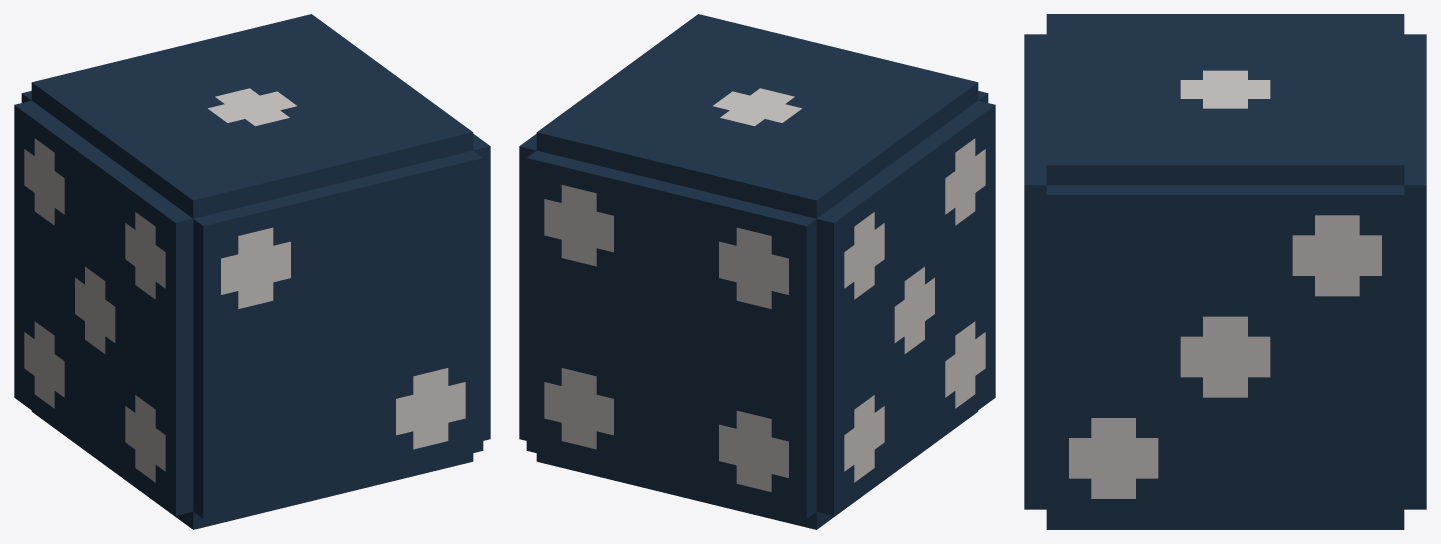
Rendered from dice-v3-blue-white.gltf.
3 views of the same model, side by side, from view 1: azimuth 30°, elevation 25°; view 2: azimuth 150°, elevation 25°; view 3: azimuth 270°, elevation 25° (orthographic). The views are drawn at different scales.
Parts seen in each view (by area): view 1: Untitled; view 2: Untitled; view 3: Untitled.
Part boxes in pixels (x1,y1,x2,y2): Untitled: (14,14,490,529); Untitled: (519,14,995,529); Untitled: (1024,14,1426,529).
Size of the model in its own units: 1.8 by 1.8 by 1.8.
1 material, 1 textured.
